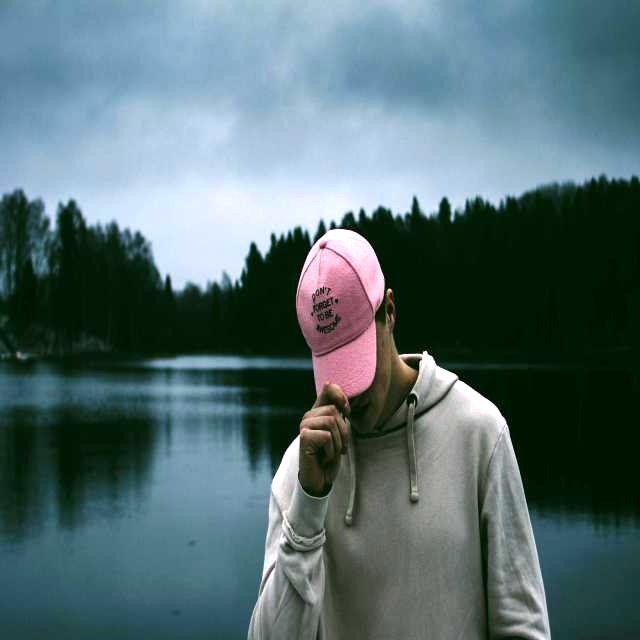no_hard_hat: (296, 229, 384, 399)
person: (248, 229, 550, 640)
